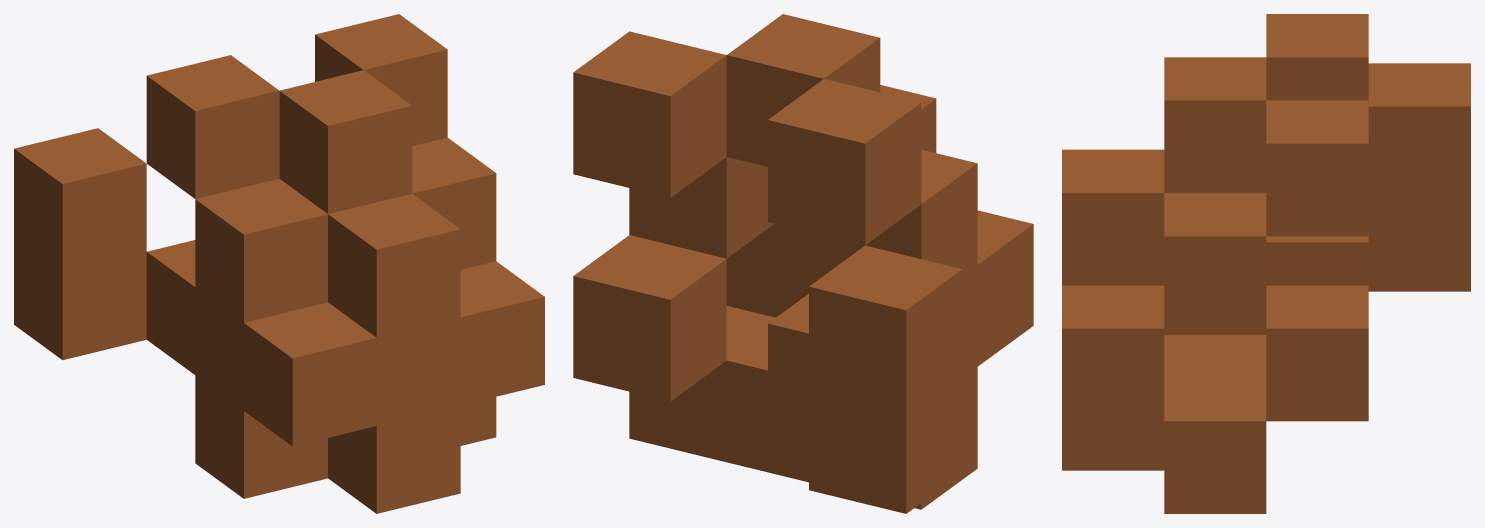
The model's file is luzlaranja-g.obj.
The picture shows the model from 3 angles, left to right: view 1: azimuth 30°, elevation 25°; view 2: azimuth 150°, elevation 25°; view 3: azimuth 270°, elevation 25°; orthographic projection. The views are drawn at different scales.
Size of the model in its own units: 0.4 by 0.4 by 0.4.
Materials: 1 (1 with a texture image).
